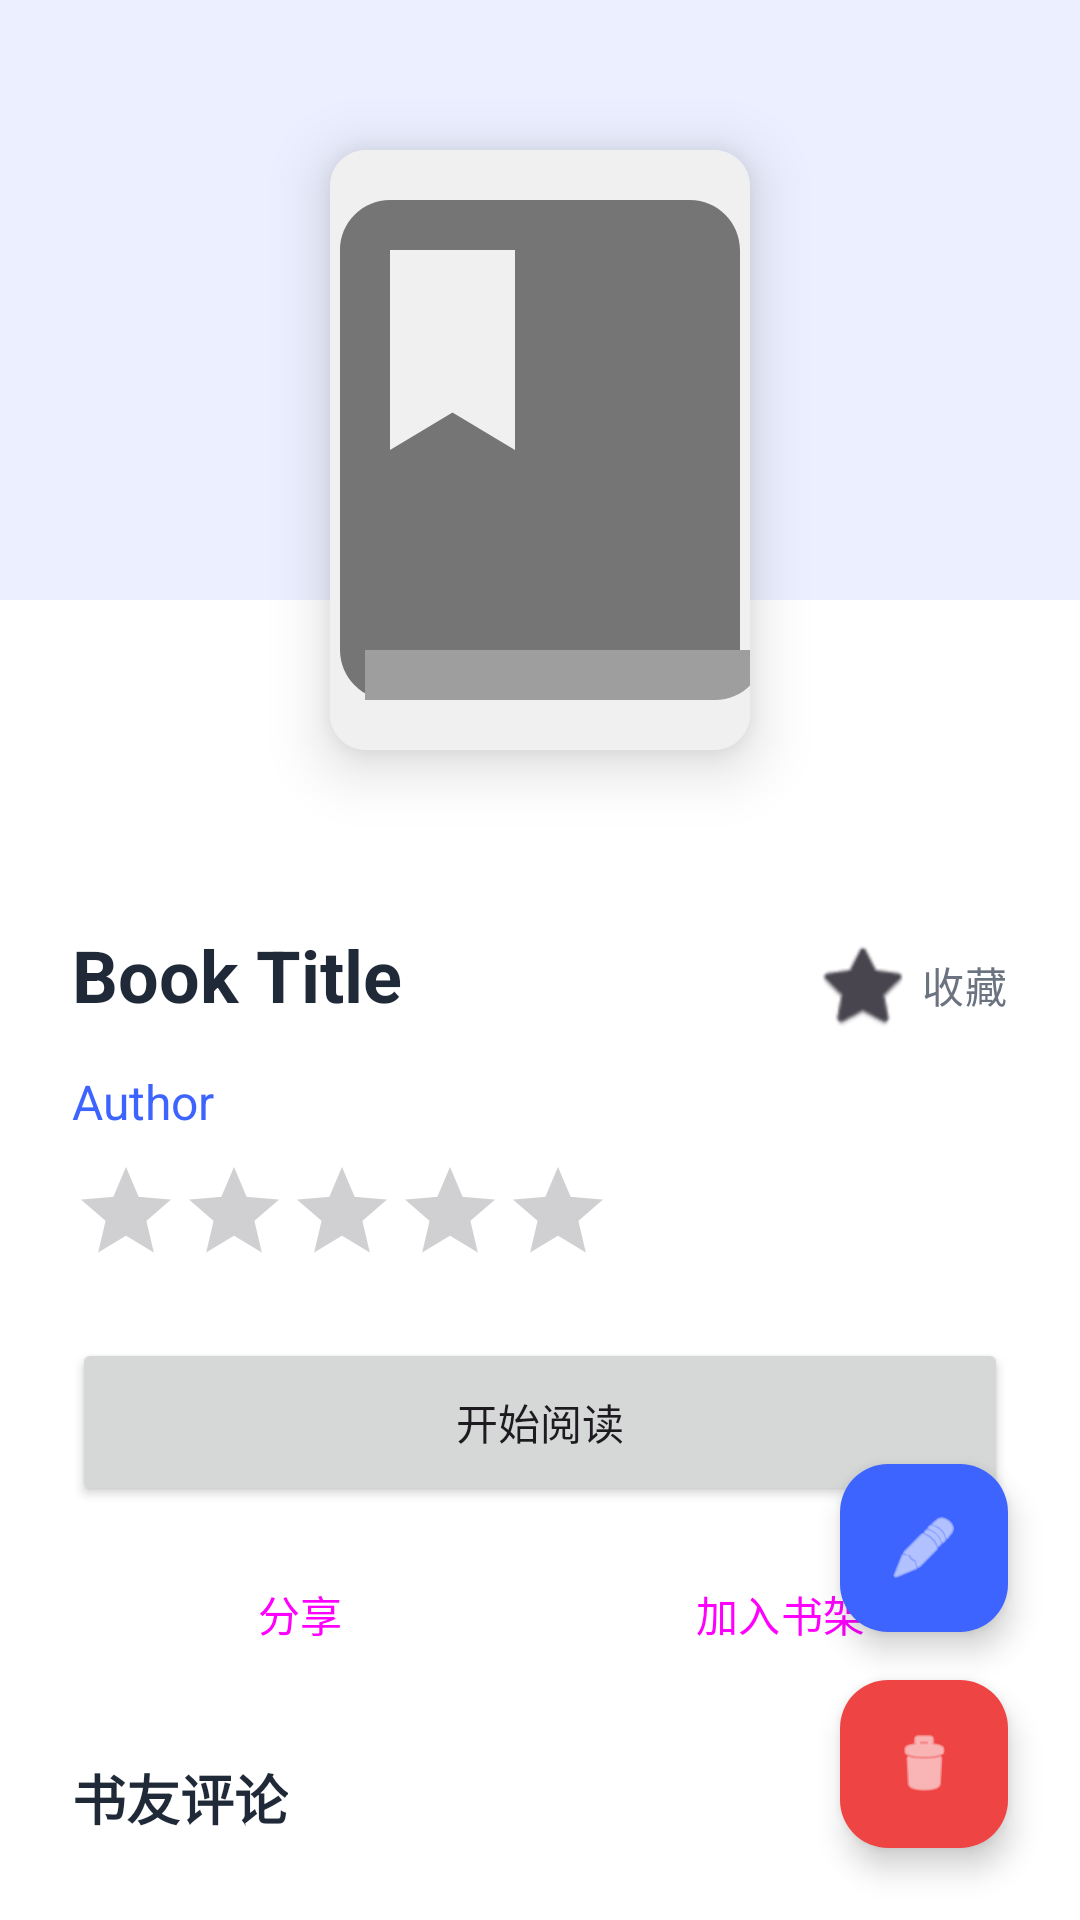

Icon bounding boxes for this 1080 x 1920 phone screenshot, format (left=x1, top=y1, right=x2, bottom=y2):
delete: (left=840, top=1680, right=1008, bottom=1848)
edit: (left=840, top=1464, right=1008, bottom=1632)
